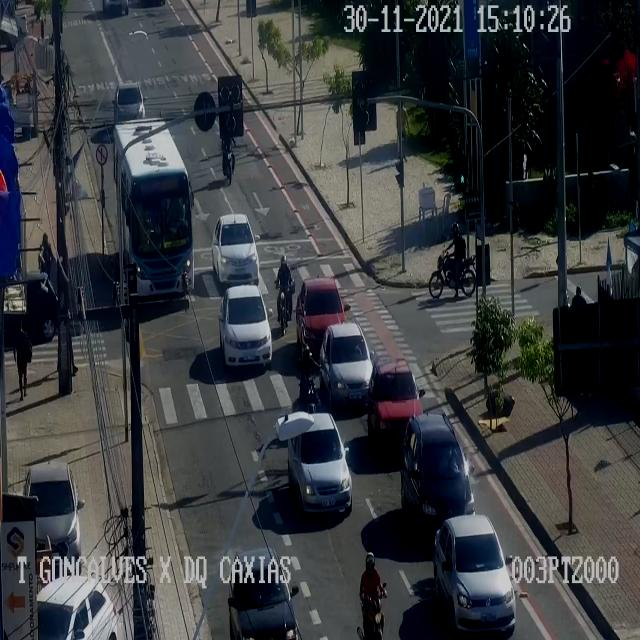Bus: (114, 121, 194, 295)
Car: (433, 515, 515, 632), (400, 413, 474, 538), (287, 412, 351, 514), (25, 463, 81, 573), (229, 548, 297, 638), (36, 576, 116, 639), (367, 361, 423, 451), (319, 323, 373, 408), (219, 284, 271, 364), (296, 278, 345, 358), (3, 273, 57, 338), (212, 213, 258, 284), (113, 82, 145, 124), (99, 0, 130, 20)
Motorcycle: (428, 221, 476, 298), (359, 551, 387, 639), (297, 342, 319, 413), (274, 255, 294, 333), (221, 125, 235, 183)
